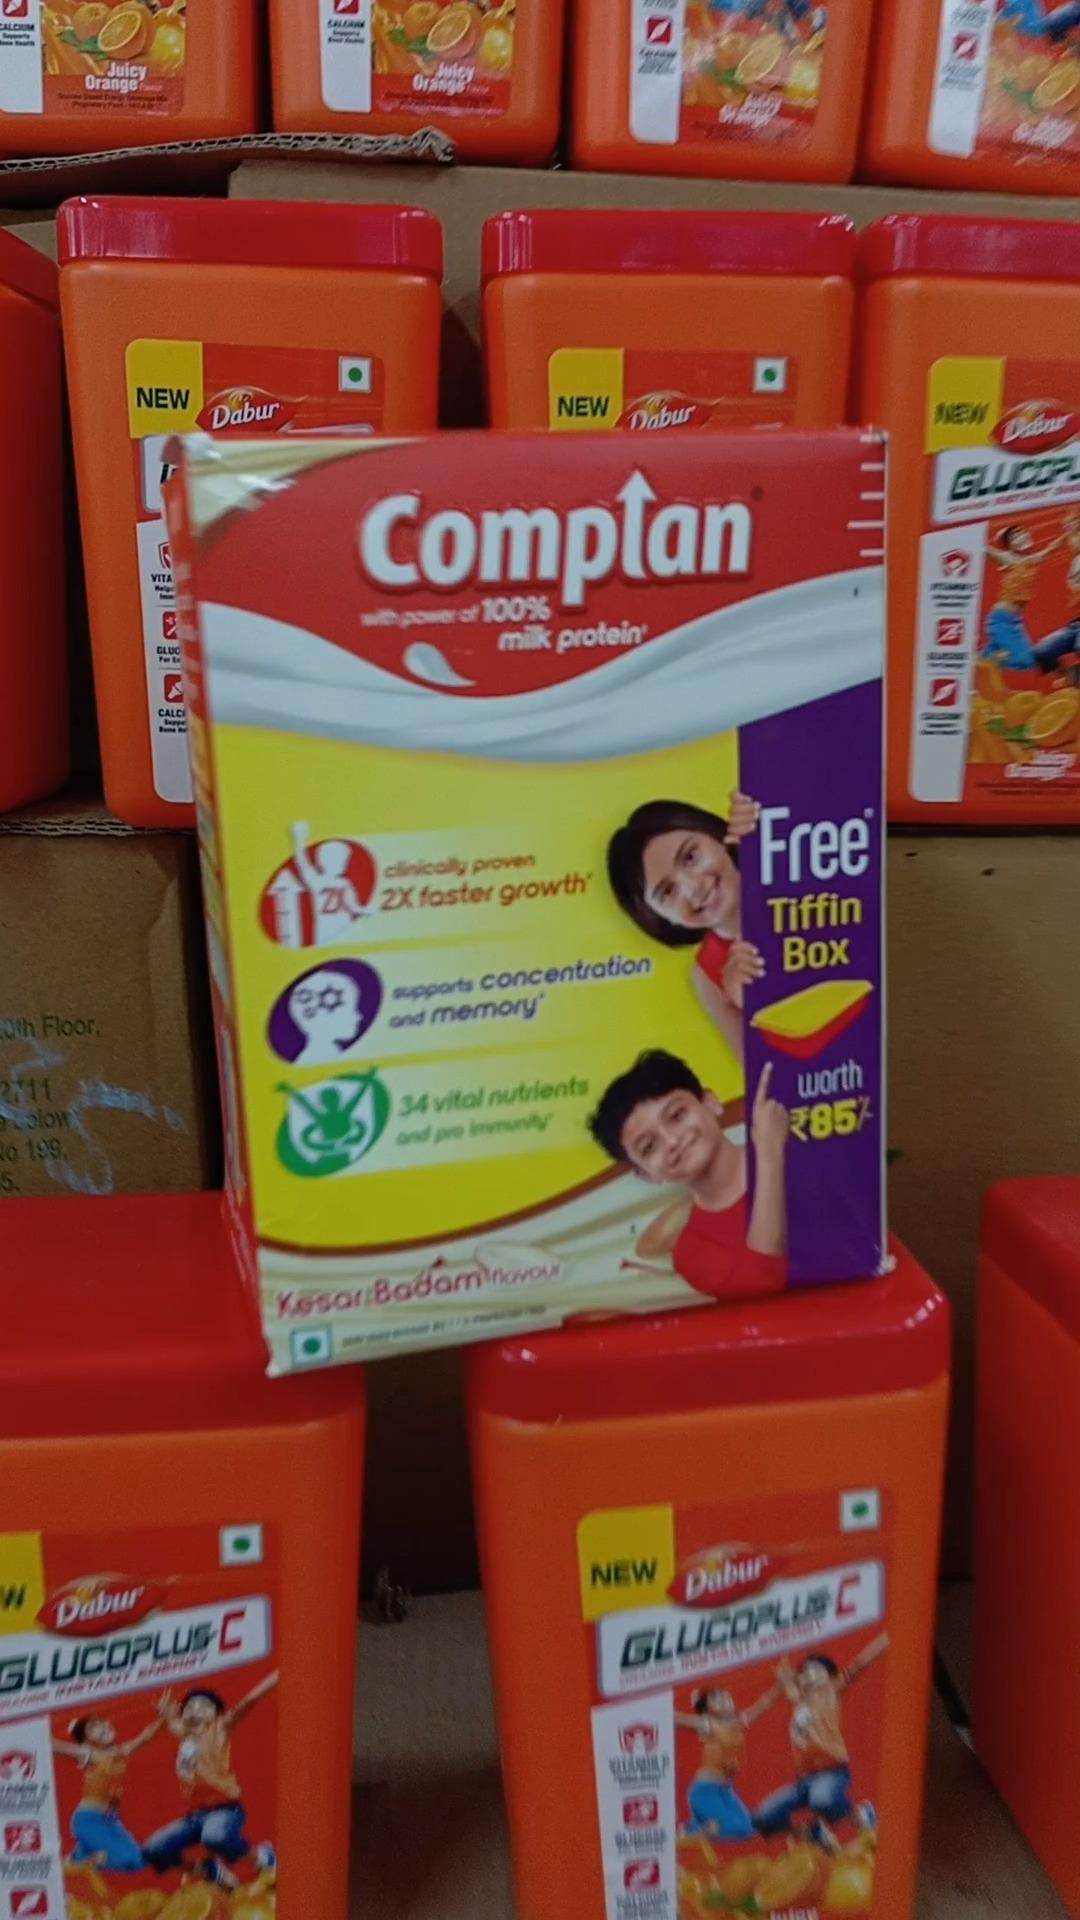COMPLAN_KESAR_BADAM_500_GMS_PACK: (183, 427, 887, 1358)
